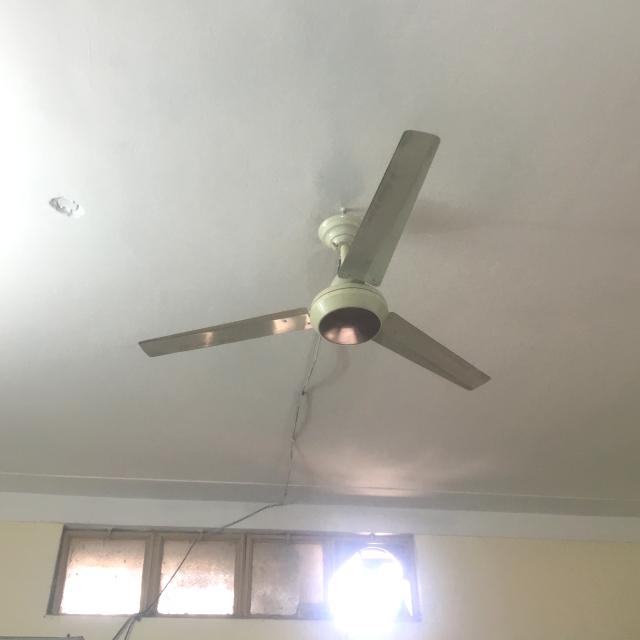off: (129, 120, 504, 397)
